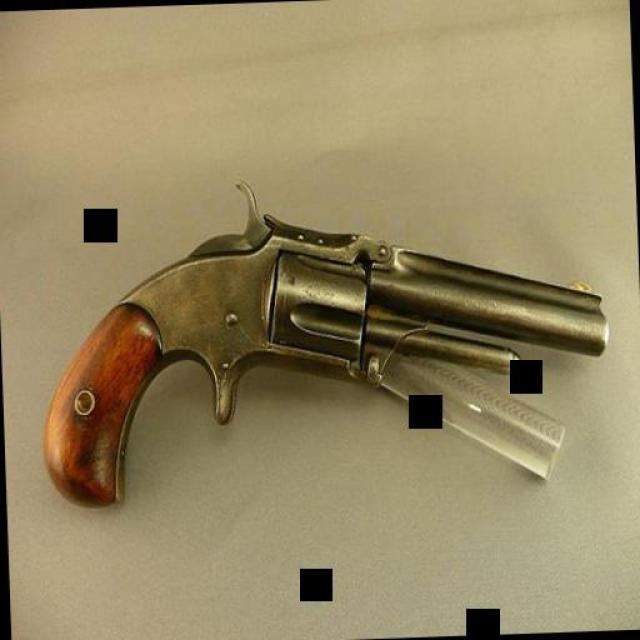gun: (32, 162, 612, 508)
